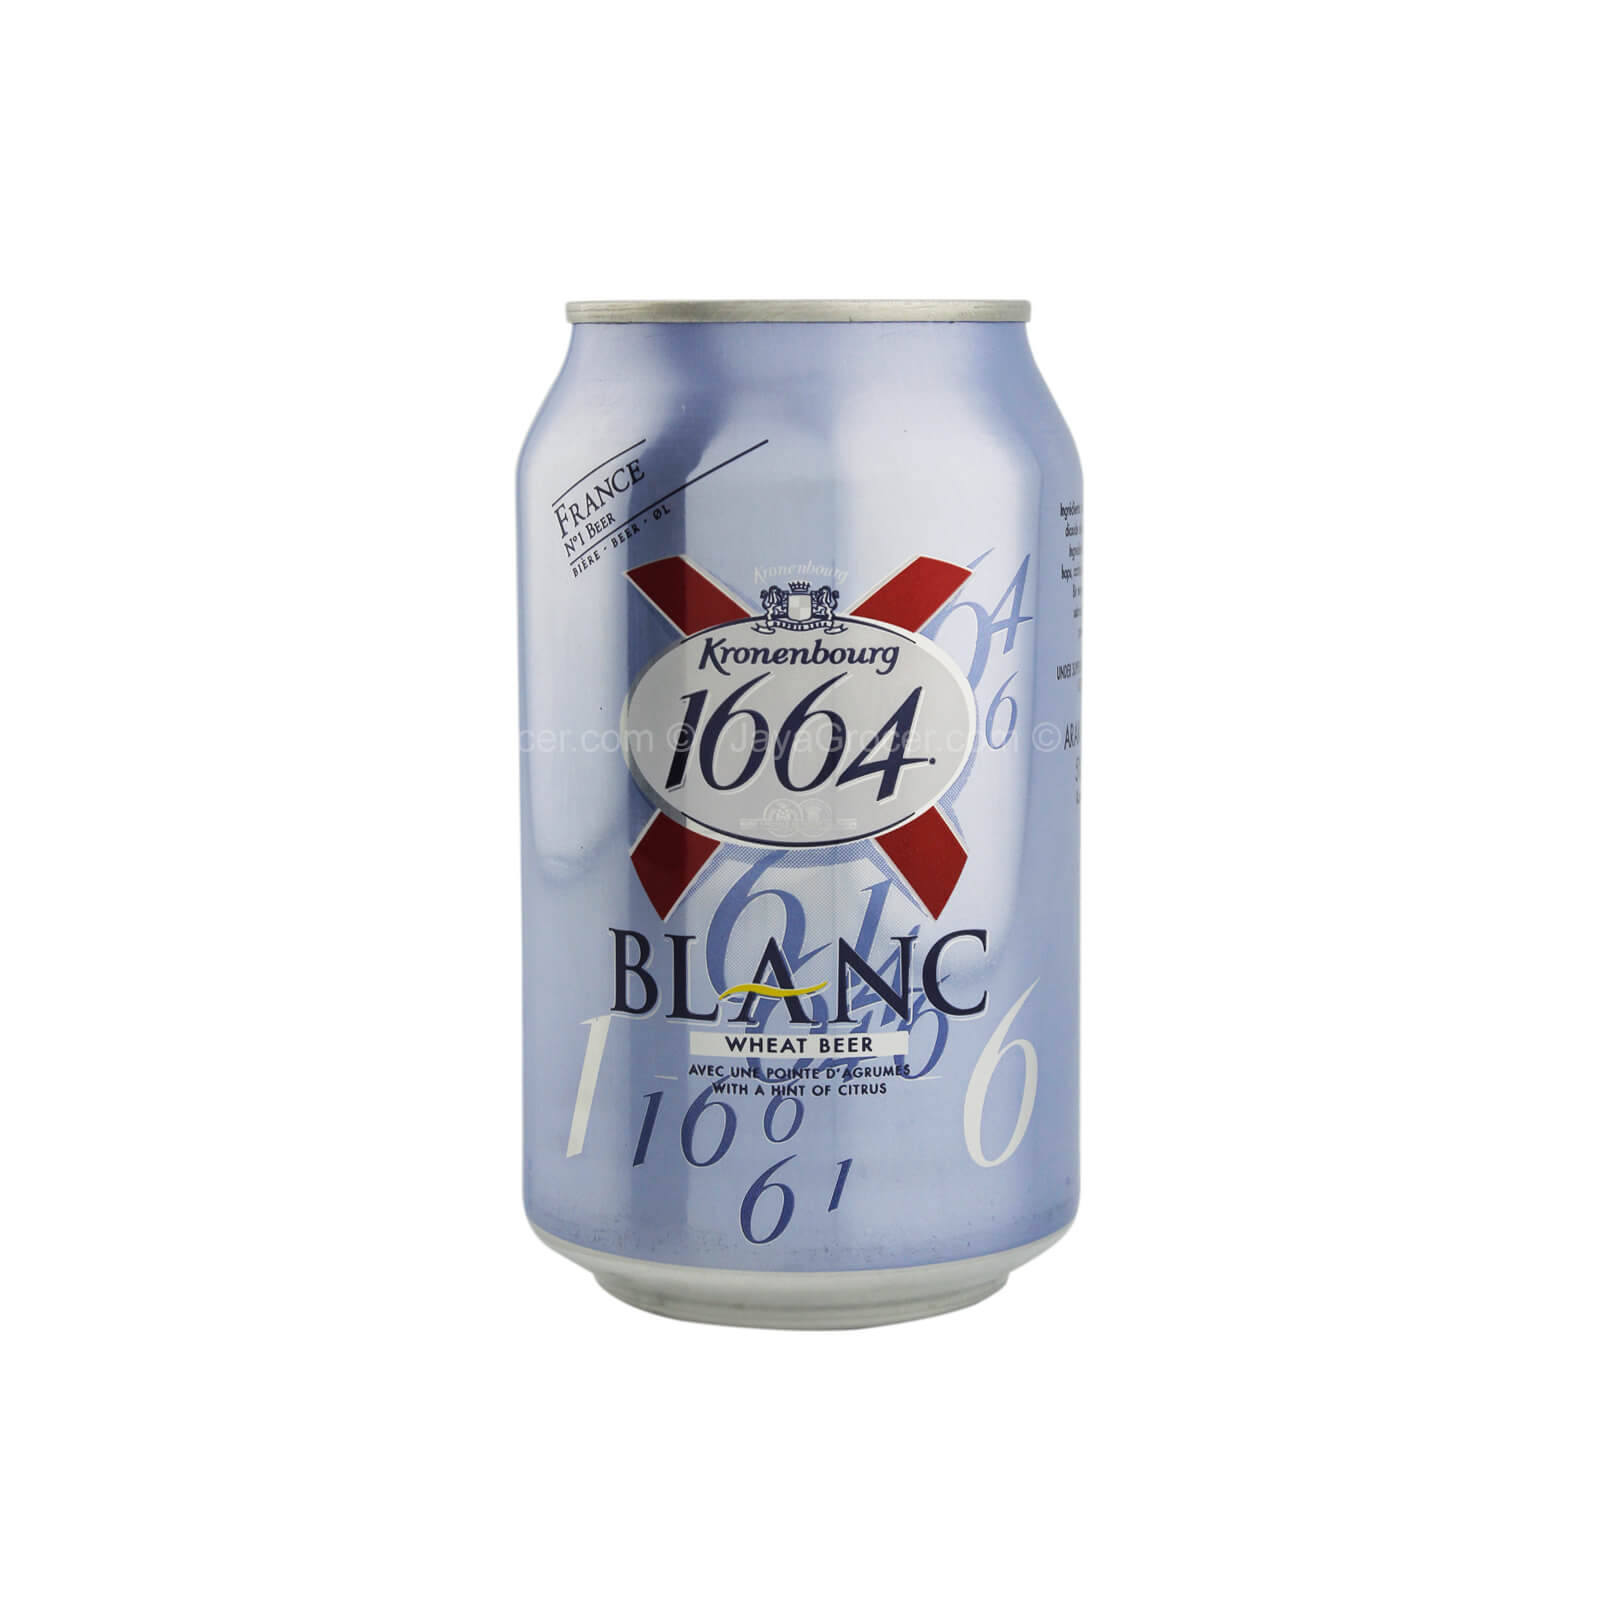beer can: (516, 297, 1061, 1327)
